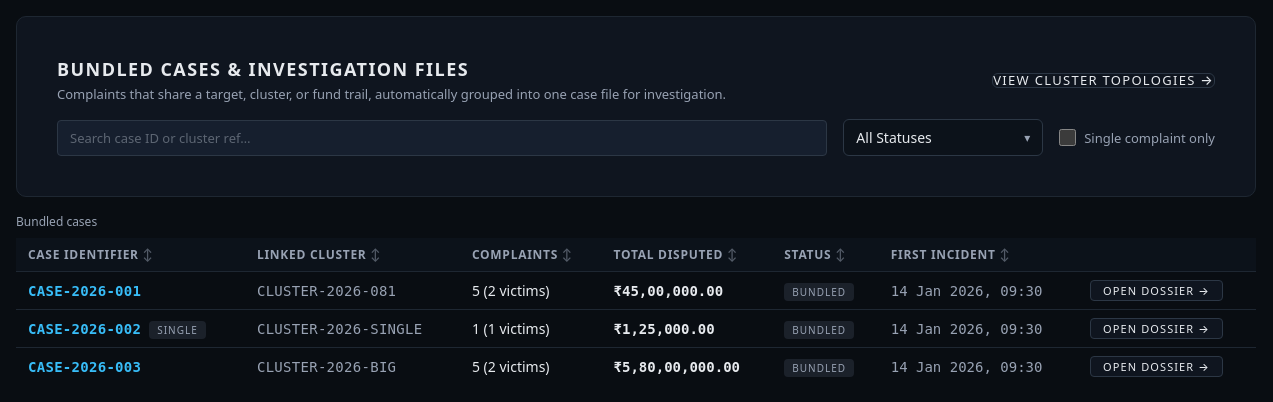
CasesPage & Bundled Cases Explorer (Step C6) › filters cases by text search query
The image size is (1273, 402).
Expected: the table with test id "cases-table" is shown, [16,213,1256,385]
Type "SINGLE" into the field with test id "cases-search-input".
click(442, 138); type("SINGLE")  # box [57,120,827,156]
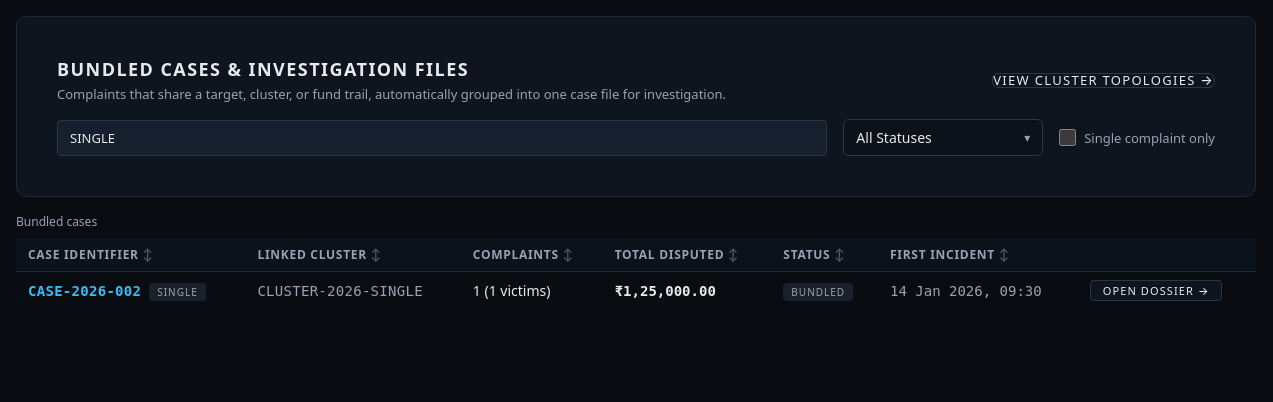
Expected: the row with test id "case-row-CASE-2026-002" is shown, [16,272,1256,309]
Expected: the row with test id "case-row-CASE-2026-001" is gone
Expected: the row with test id "case-row-CASE-2026-003" is gone
